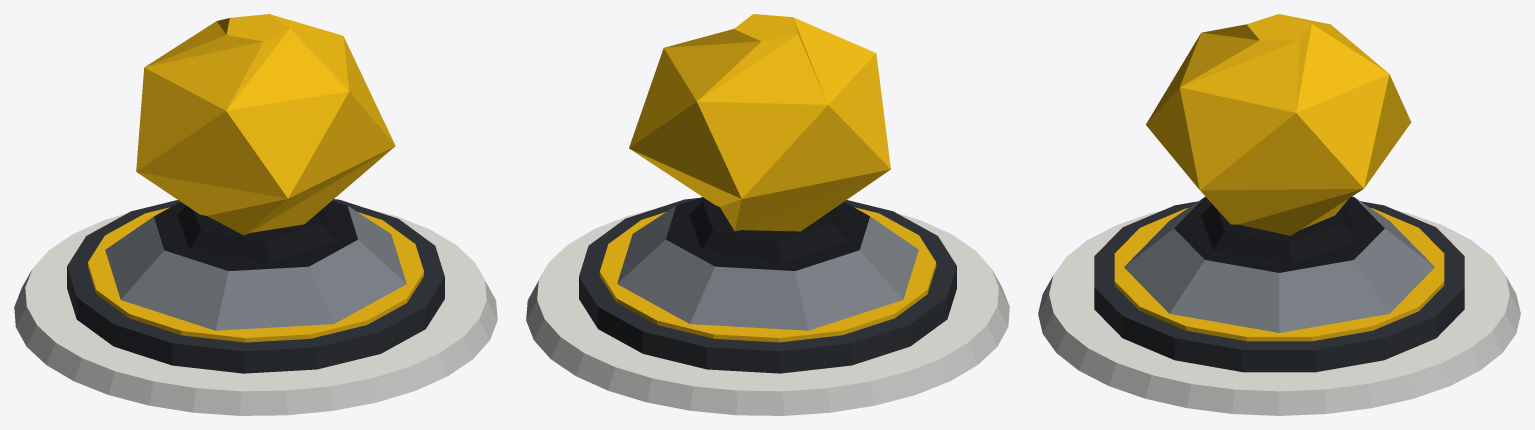
The model's file is PROP_PLAZA_BEACON_01.glb.
3 renders of one model, left to right at view 1: azimuth 30°, elevation 25°; view 2: azimuth 150°, elevation 25°; view 3: azimuth 270°, elevation 25°, orthographic.
Visible parts, largest first — view 1: CIVRUM_GAME_PROP_PLAZA_BEACON_01; view 2: CIVRUM_GAME_PROP_PLAZA_BEACON_01; view 3: CIVRUM_GAME_PROP_PLAZA_BEACON_01.
Part boxes in pixels (x1,y1,x2,y2): CIVRUM_GAME_PROP_PLAZA_BEACON_01: (14, 14, 497, 415); CIVRUM_GAME_PROP_PLAZA_BEACON_01: (526, 14, 1009, 415); CIVRUM_GAME_PROP_PLAZA_BEACON_01: (1038, 14, 1520, 415).
Size of the model in its own units: 3.94 by 2.57 by 3.94.
